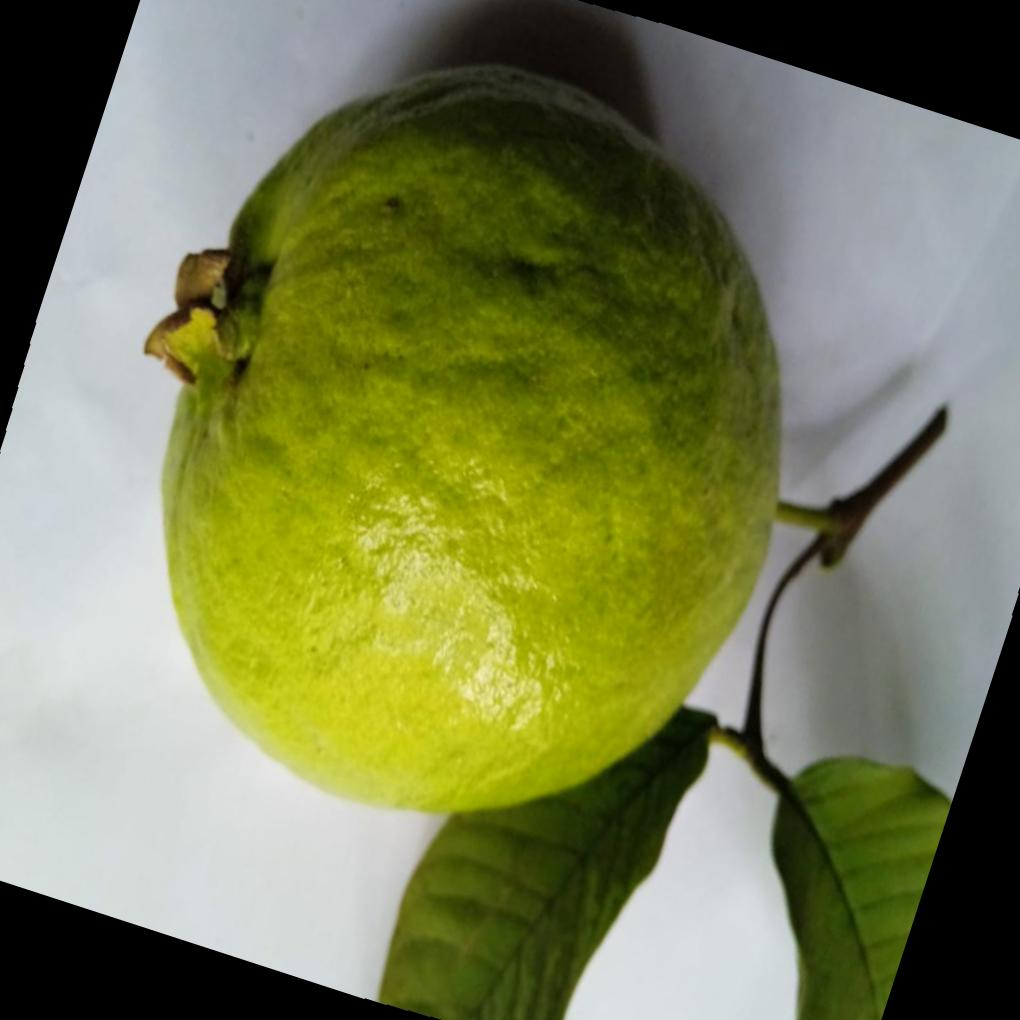FreshGuava: (142, 64, 788, 820)
